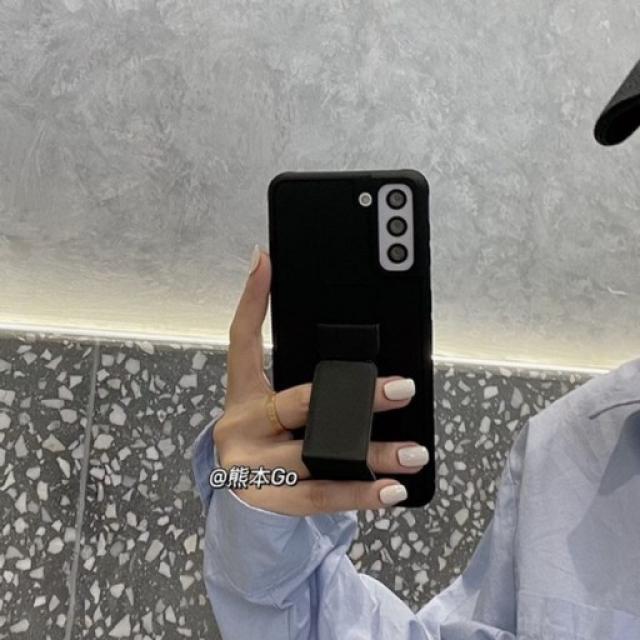phone: (268, 169, 438, 509)
